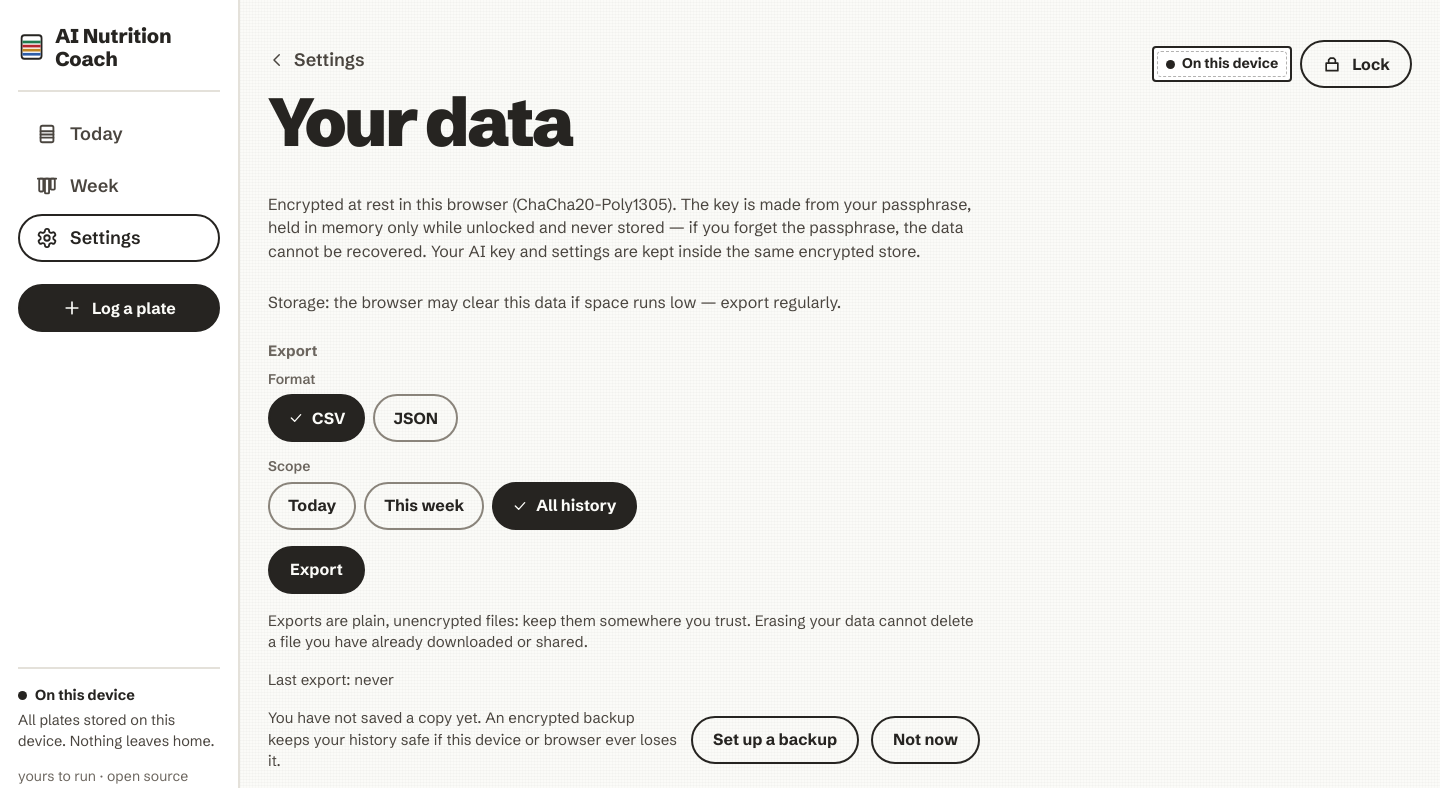
Test: YourDataScreen: export › exports CSV: a header and one row per entry, then one calm line and the last-export date
Expected: the heading "Your data" is shown, [268,92,572,153]
Expected: the radio button labelled "CSV" is checked, [268,394,365,442]
Click the button "Export". click: [316, 570]
box: [268,546,365,594]
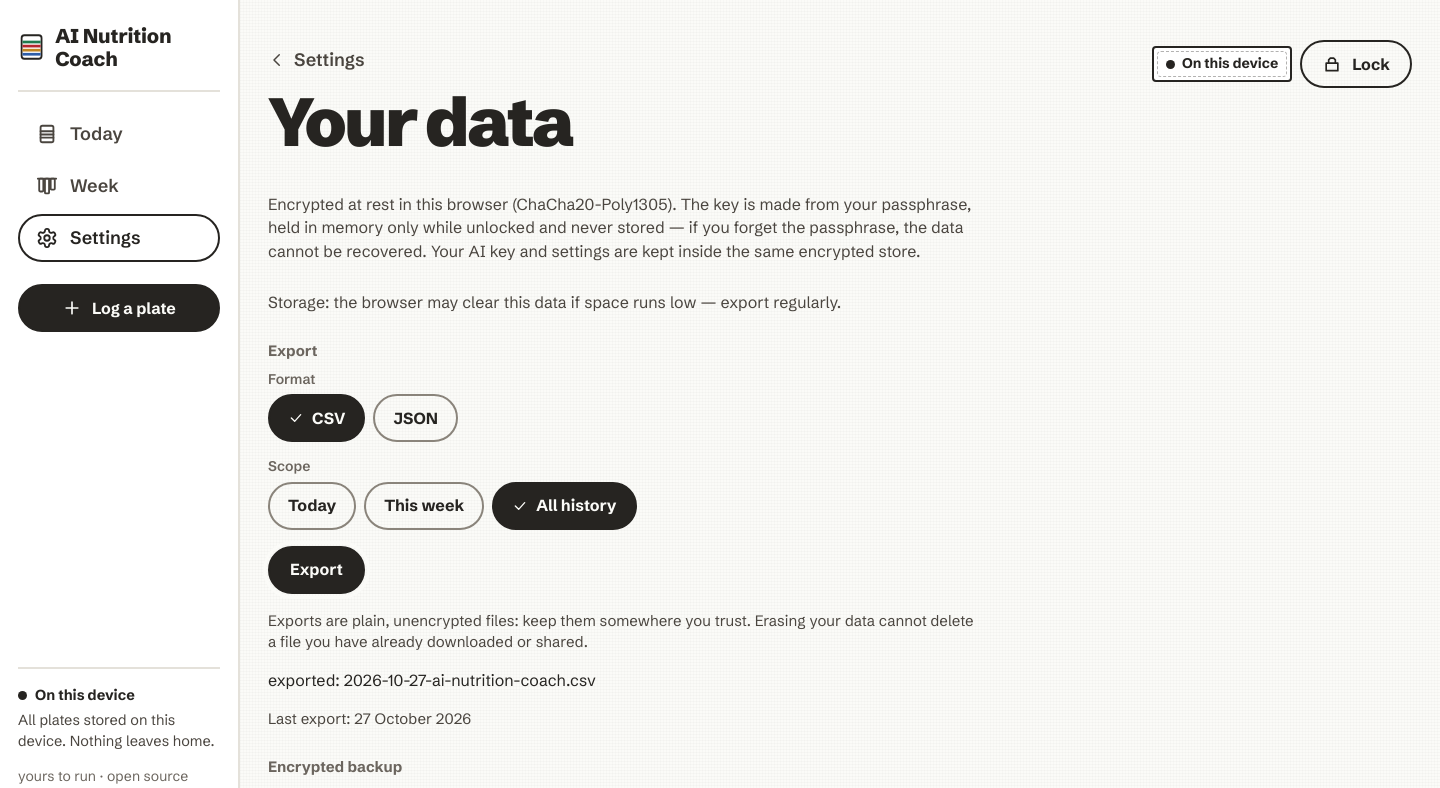
Expected: the text "Last export: 27 October 2026" is shown, [268,709,471,728]
Now the text "Last export: never" is gone
